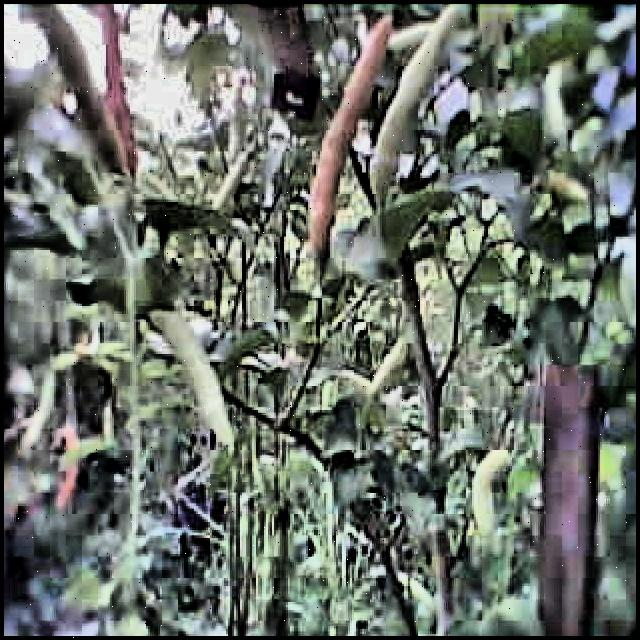Cabai: (299, 24, 390, 258), (97, 5, 154, 175)
